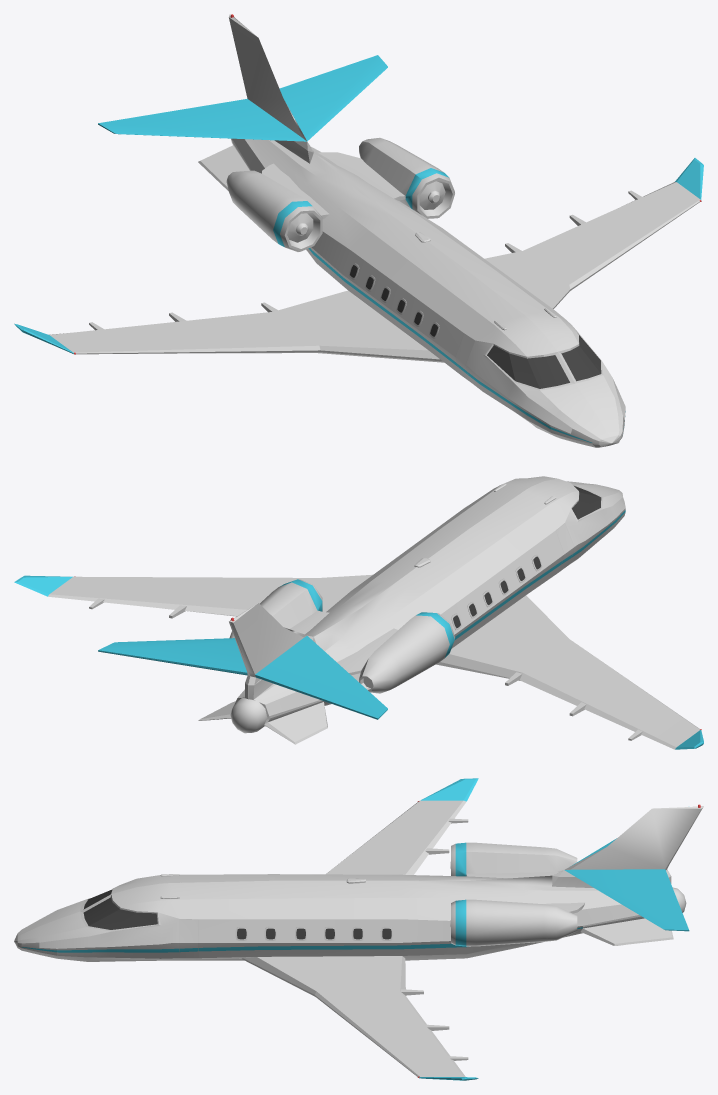
Rendered from cartoon_low_poly_private_jet.glb.
3 views of the same model, one above another, from view 1: azimuth 30°, elevation 25°; view 2: azimuth 150°, elevation 25°; view 3: azimuth 270°, elevation 25° (orthographic). The views are drawn at different scales.
Parts seen in each view (by area): view 1: Jet; view 2: Jet; view 3: Jet.
Part boxes in pixels (left/top/right/bottom): Jet: left=14, top=14, right=703, bottom=447; Jet: left=14, top=476, right=703, bottom=749; Jet: left=14, top=778, right=703, bottom=1080.
Size of the model in its own units: 4.78 by 1.07 by 4.64.
